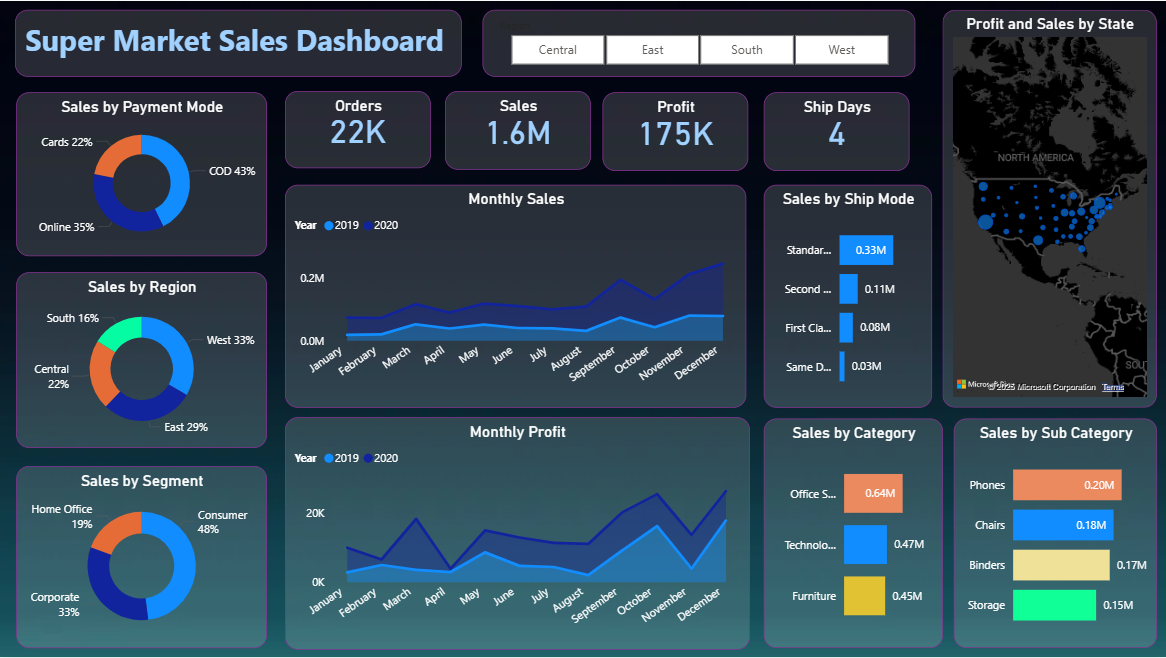

Layout of this report page (visuals, bound fields, positions):
{"tool":"powerbi","page":{"name":"Page 1","canvas":[1280,720],"ordinal":0},"visuals":[{"type":"clusteredBarChart","title":"Sales by Category","fields":{"Category":["Sheet1.Category"],"Y":["Sum(Sheet1.Sales)"]},"box":[838.3,458.3,196.7,251.7],"z":0},{"type":"clusteredBarChart","title":"Sales by Ship Mode","fields":{"Category":["Sheet1.Ship Mode"],"Y":["Sum(Sheet1.Sales)"]},"box":[838.3,201.7,185,245],"z":2000},{"type":"stackedAreaChart","title":"Monthly Sales","fields":{"Y":["Sum(Sheet1.Sales)"],"Series":["Sheet1.Order Date.Variation.Date Hierarchy.Year"],"Category":["Sheet1.Order Date.Variation.Date Hierarchy.Month"]},"box":[313.3,201.7,506.7,245],"z":3000},{"type":"stackedAreaChart","title":"Monthly Profit ","fields":{"Series":["Sheet1.Order Date.Variation.Date Hierarchy.Year"],"Category":["Sheet1.Order Date.Variation.Date Hierarchy.Month"],"Y":["Sum(Sheet1.Profit)"]},"box":[312.5,457.5,510,255],"z":4000},{"type":"map","title":"Profit and Sales by State","fields":{"Category":["Sheet1.State"],"Size":["Sum(Sheet1.Sales)"]},"box":[1035,10,235,436.7],"z":5000},{"type":"donutChart","title":"Sales by Segment","fields":{"Category":["Sheet1.Segment"],"Y":["Sum(Sheet1.Sales)"]},"box":[17.5,510,275,200],"z":6000},{"type":"donutChart","title":"Sales by Payment Mode","fields":{"Category":["Sheet1.Payment Mode"],"Y":["Sum(Sheet1.Sales)"]},"box":[17.5,100,275,180],"z":7000},{"type":"slicer","fields":{"Values":["Sheet1.Region"]},"box":[530,10,475,73.3],"z":8000},{"type":"textbox","box":[16.7,10,490,73.3],"z":9000},{"type":"card","title":"Sales","fields":{"Values":["Sum(Sheet1.Sales)"]},"box":[488.3,98.3,160,86.7],"z":10000},{"type":"card","title":"Orders","fields":{"Values":["Sum(Sheet1.Quantity)"]},"box":[313.3,98.3,160,85],"z":11000},{"type":"card","title":"Profit","fields":{"Values":["Sum(Sheet1.Profit)"]},"box":[661.7,100,160,86.7],"z":12000},{"type":"card","title":"Ship Days","fields":{"Values":["Avg(Sheet1.AvgDelivery)"]},"box":[838.3,100,160,86.7],"z":13000},{"type":"clusteredBarChart","title":"Sales by Sub Category","fields":{"Category":["Sheet1.Sub-Category"],"Y":["Sum(Sheet1.Sales)"]},"box":[1046.7,458.3,223.3,251.7],"z":14000},{"type":"donutChart","title":" Sales by Region","fields":{"Category":["Sheet1.Region"],"Y":["Sum(Sheet1.Sales)"]},"box":[17.5,297.5,275,192.5],"z":15000}]}

Visuals, with their boxes in screenshot pixels (x1, y1, x2, y2), scaled from the page's 1280x720 canvas onto the 1166x658 screenshot:
"Sales by Category" clusteredBarChart: bbox(764, 419, 943, 649)
"Sales by Ship Mode" clusteredBarChart: bbox(764, 184, 932, 408)
"Monthly Sales" stackedAreaChart: bbox(285, 184, 747, 408)
"Monthly Profit " stackedAreaChart: bbox(285, 418, 749, 651)
"Profit and Sales by State" map: bbox(943, 9, 1157, 408)
"Sales by Segment" donutChart: bbox(16, 466, 266, 649)
"Sales by Payment Mode" donutChart: bbox(16, 91, 266, 256)
slicer - Sheet1.Region: bbox(483, 9, 915, 76)
textbox: bbox(15, 9, 462, 76)
"Sales" card: bbox(445, 90, 591, 169)
"Orders" card: bbox(285, 90, 431, 168)
"Profit" card: bbox(603, 91, 749, 171)
"Ship Days" card: bbox(764, 91, 909, 171)
"Sales by Sub Category" clusteredBarChart: bbox(953, 419, 1157, 649)
" Sales by Region" donutChart: bbox(16, 272, 266, 448)
